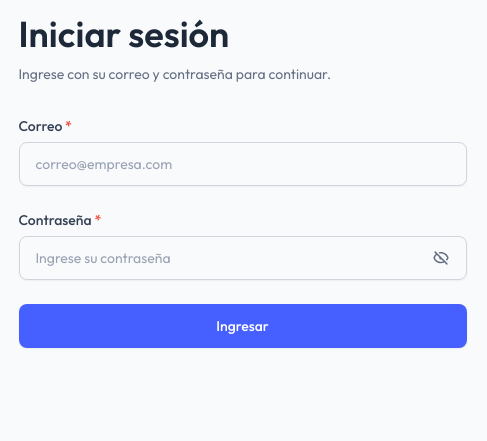
Scenario: SignInForm › si no hay conexión, muestra un mensaje general
Type "admin@mollendo.pe" into the field with placeholder "correo@empresa.com" at (242, 164), box left=18, top=142, right=466, bottom=186
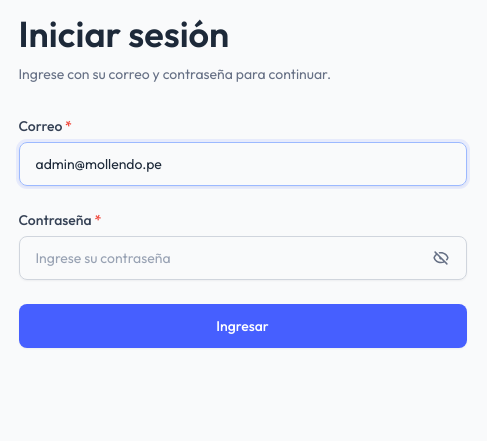
Type "Clave-123" into the password field with placeholder "Ingrese su contraseña" at (242, 258), box left=18, top=236, right=466, bottom=280
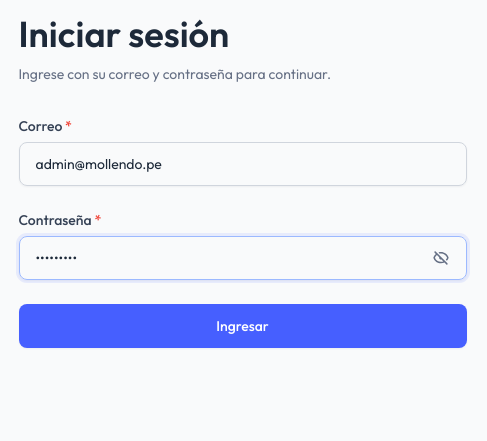
Click the button "Ingresar" at (242, 326), box left=18, top=304, right=466, bottom=348
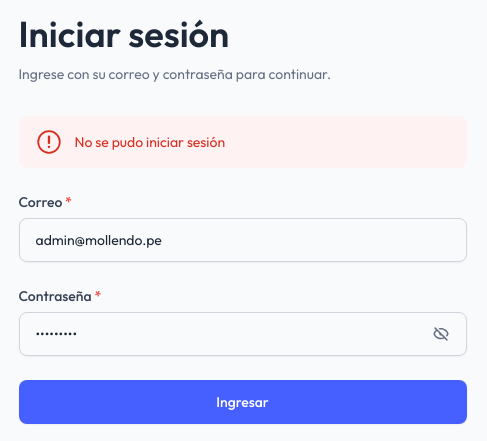
Now the text "No se pudo iniciar sesión" is shown, box left=74, top=132, right=225, bottom=152
